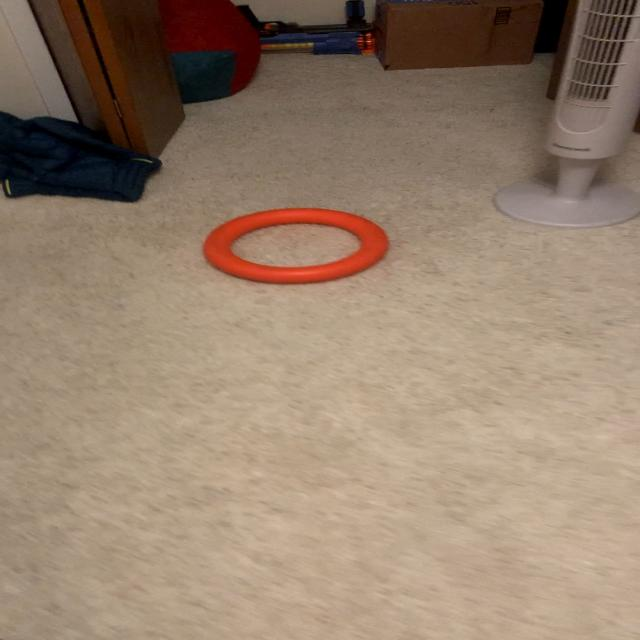notes: (203, 208, 387, 283)
